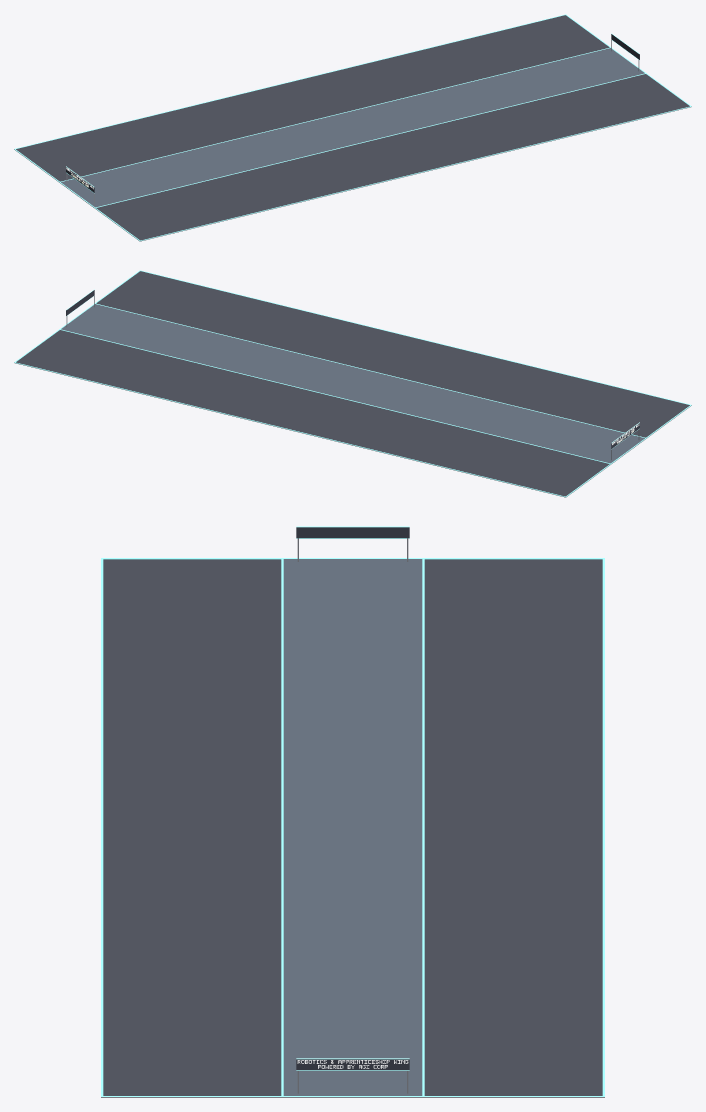
File: wing-floor.glb
3 views of the same model, one above another, from view 1: azimuth 30°, elevation 25°; view 2: azimuth 150°, elevation 25°; view 3: azimuth 270°, elevation 25° (orthographic). The views are drawn at different scales.
Parts seen in each view (by area): view 1: Robotics & Apprenticeship Wing; view 2: Robotics & Apprenticeship Wing; view 3: Robotics & Apprenticeship Wing.
Part boxes in pixels (left/top/right/bottom): Robotics & Apprenticeship Wing: left=14, top=14, right=691, bottom=241; Robotics & Apprenticeship Wing: left=14, top=270, right=691, bottom=497; Robotics & Apprenticeship Wing: left=101, top=526, right=604, bottom=1097.
Size of the model in its own units: 172 by 5.35 by 68.
